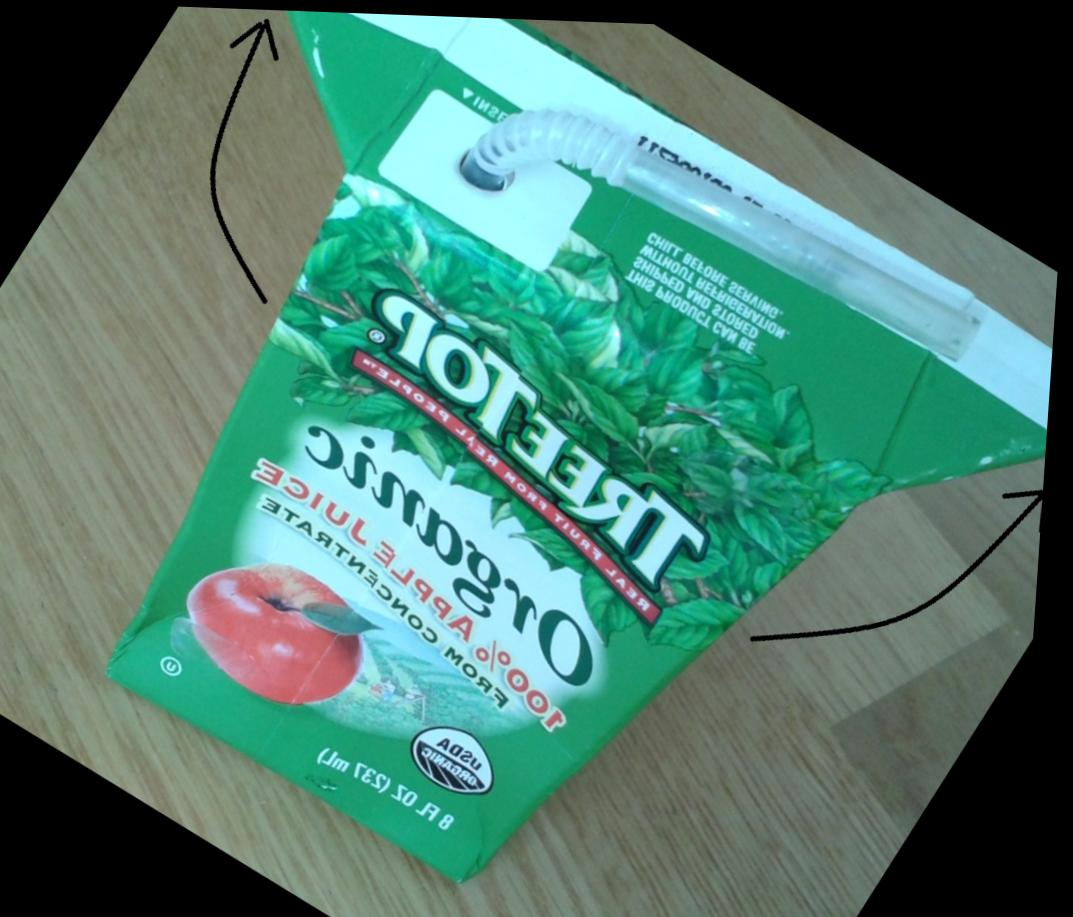cardboard: (0, 8, 1054, 912)
plastic: (0, 0, 1072, 912)
